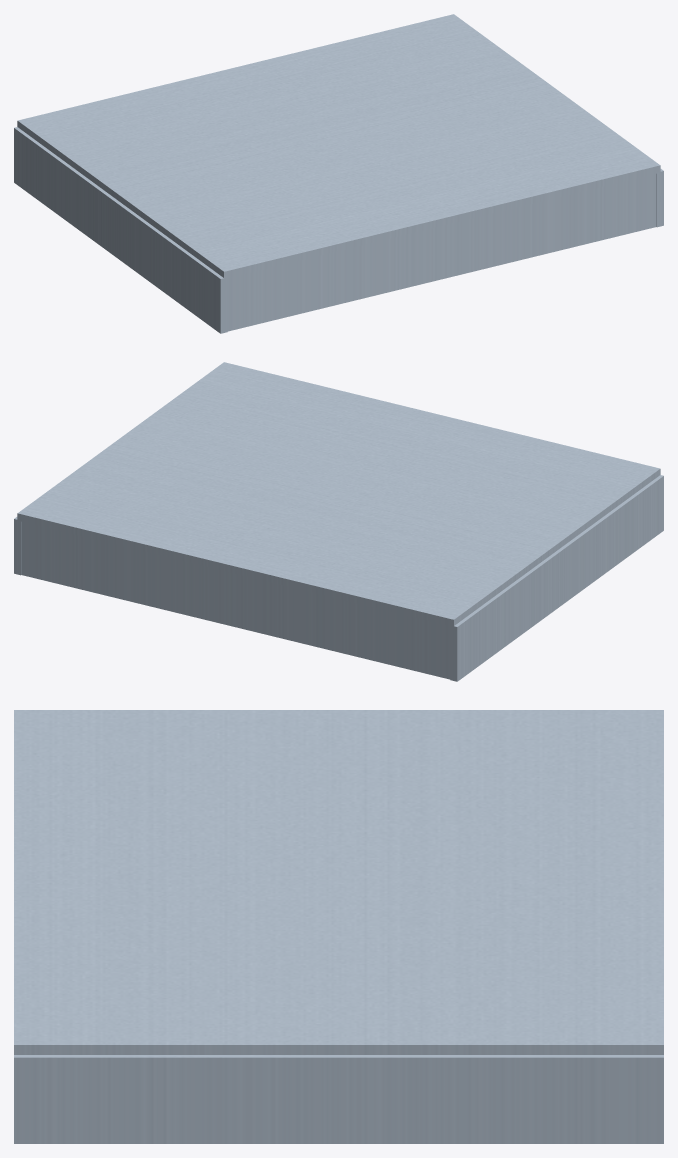
File: 193_L113_SafetyShield_1.obj
The picture shows the model from 3 angles, top to bottom: view 1: azimuth 30°, elevation 25°; view 2: azimuth 150°, elevation 25°; view 3: azimuth 270°, elevation 25°; orthographic projection. The views are drawn at different scales.
Parts seen in each view (by area): view 1: Part0000__PSMAT__Aluminum_Brush, Part0002__PSMAT__Aluminum_Brush, Part0003__PSMAT__Aluminum_Brush; view 2: Part0000__PSMAT__Aluminum_Brush, Part0001__PSMAT__Aluminum_Brush, Part0003__PSMAT__Aluminum_Brush; view 3: Part0000__PSMAT__Aluminum_Brush, Part0004__PSMAT__Aluminum_Brush.
Part boxes in pixels (x1,y1,x2,y2): Part0000__PSMAT__Aluminum_Brush: (17,14,660,278); Part0002__PSMAT__Aluminum_Brush: (227,173,656,331); Part0003__PSMAT__Aluminum_Brush: (14,127,227,333); Part0000__PSMAT__Aluminum_Brush: (17,362,660,626); Part0001__PSMAT__Aluminum_Brush: (21,521,450,679); Part0003__PSMAT__Aluminum_Brush: (450,475,663,681); Part0000__PSMAT__Aluminum_Brush: (14,710,663,1054); Part0004__PSMAT__Aluminum_Brush: (14,1055,663,1143).
Bounding box in the file's own units: 0.0508 × 0.0067 × 0.041.
Materials: 1 (1 with a texture image).
